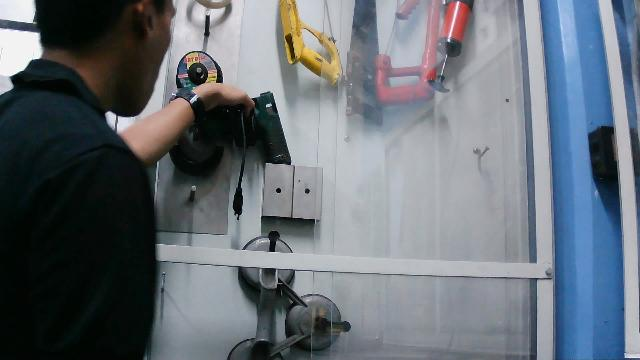gun_lem: (223, 85, 298, 179)
